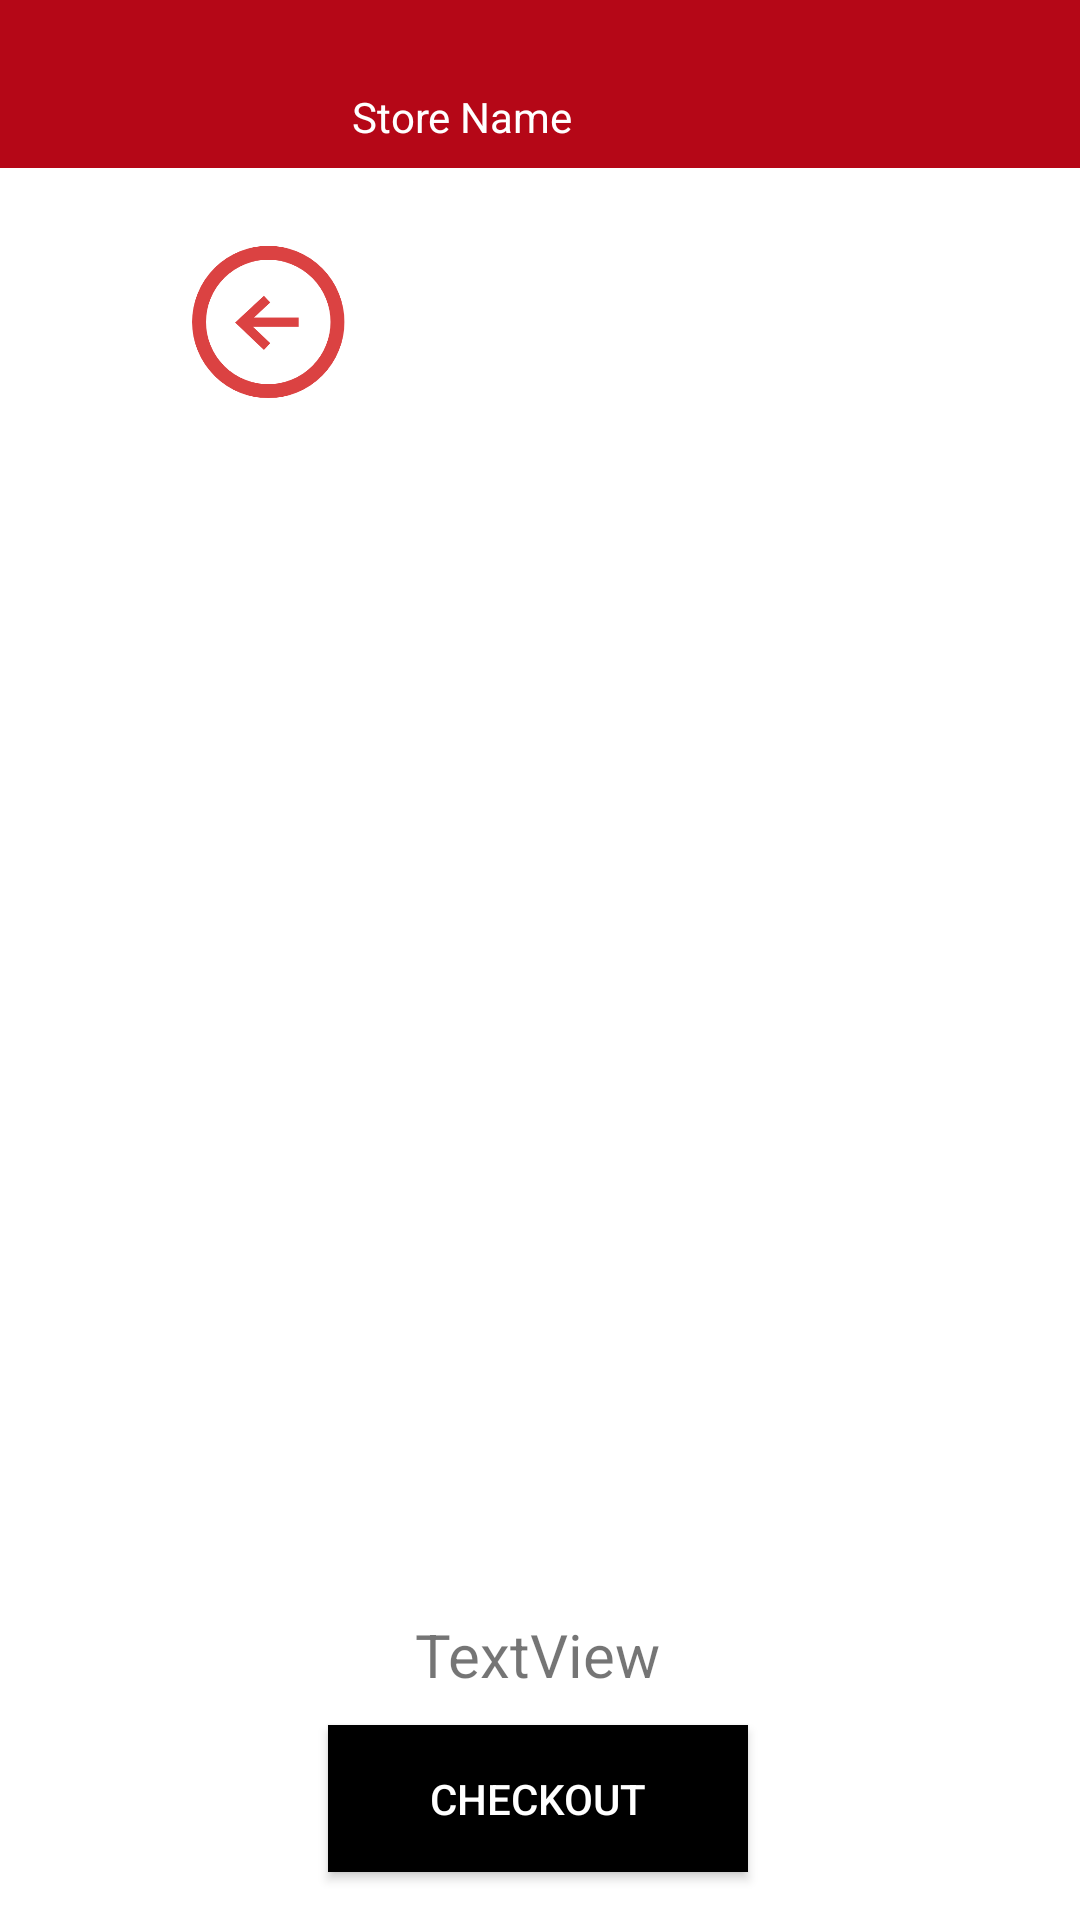

Icons on this 1080w x 1920h Android screen, each with the point to tap as (x=x, y=y):
back: (x=268, y=322)
